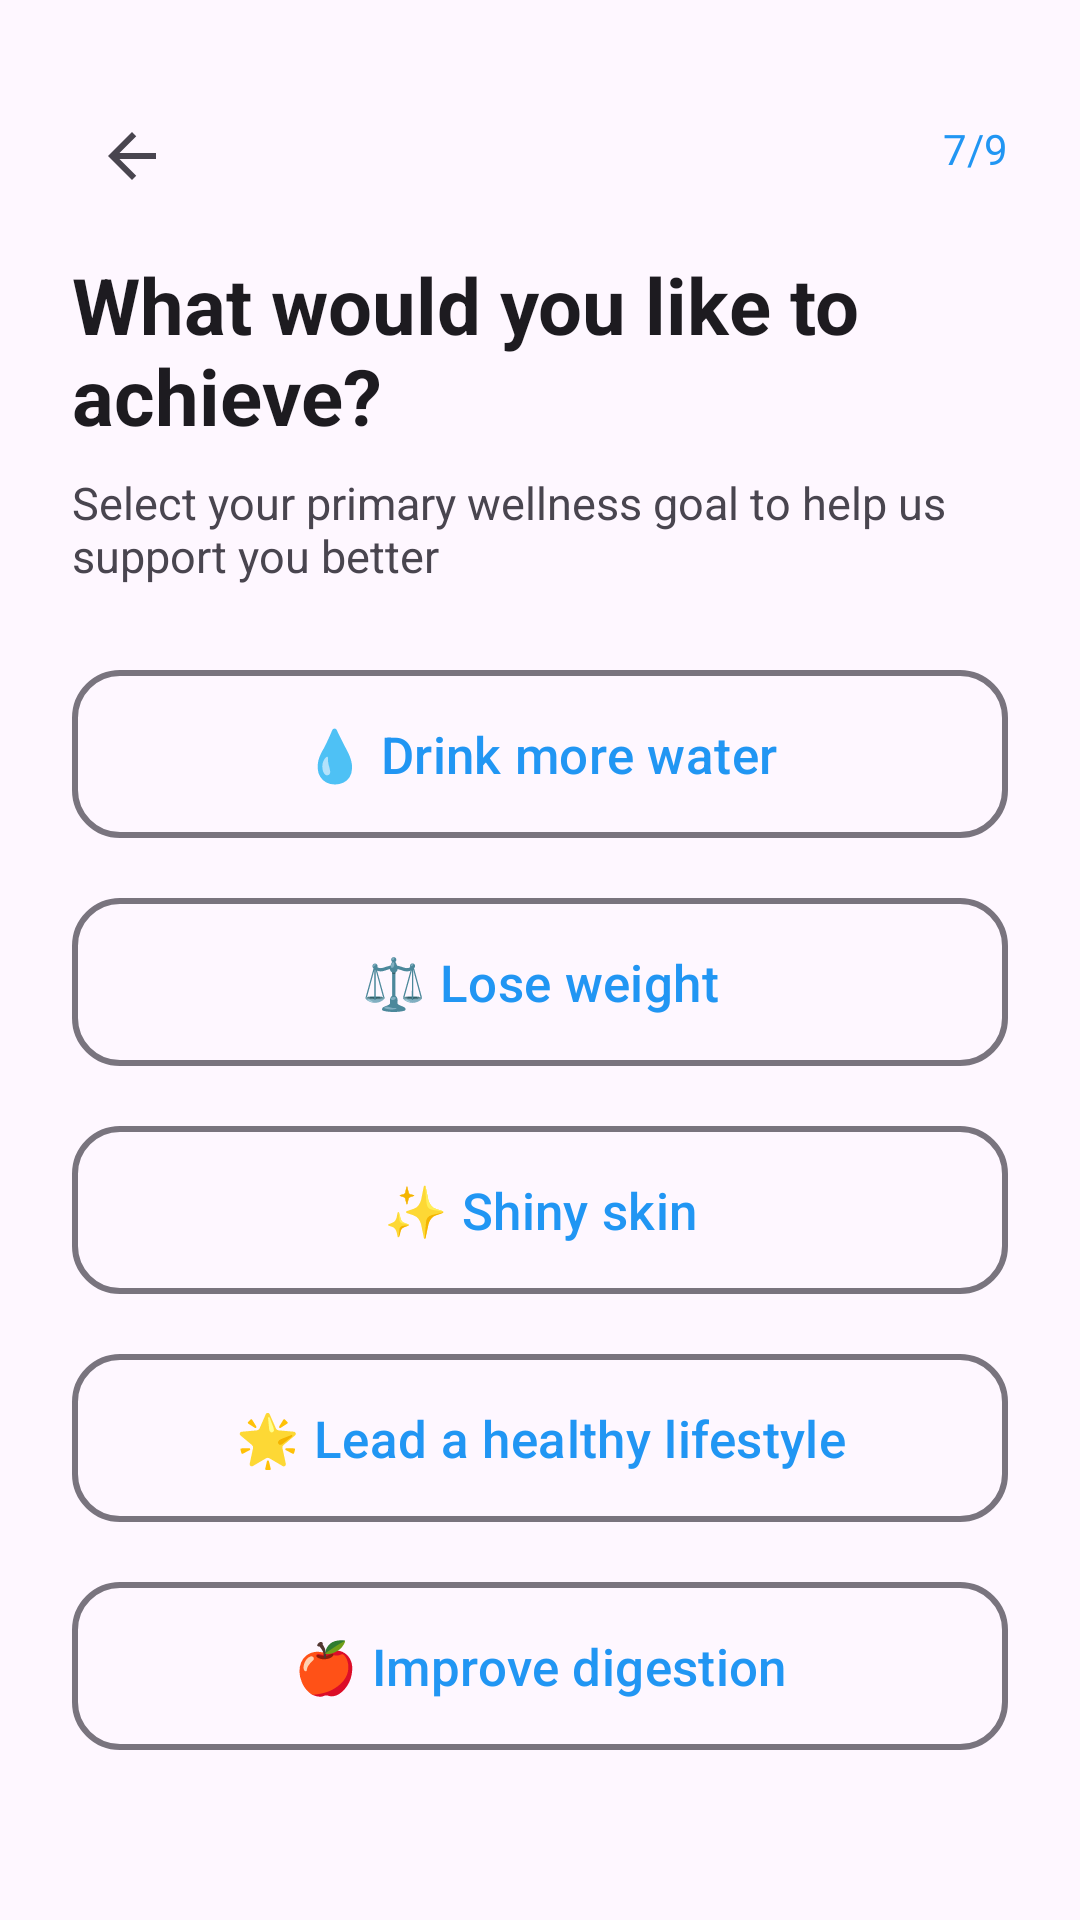

Icons on this 1080×1920 Android screen, each with its box as (left=x1, top=y1, right=x2, bottom=y2):
Go back: (left=108, top=132, right=156, bottom=180)
